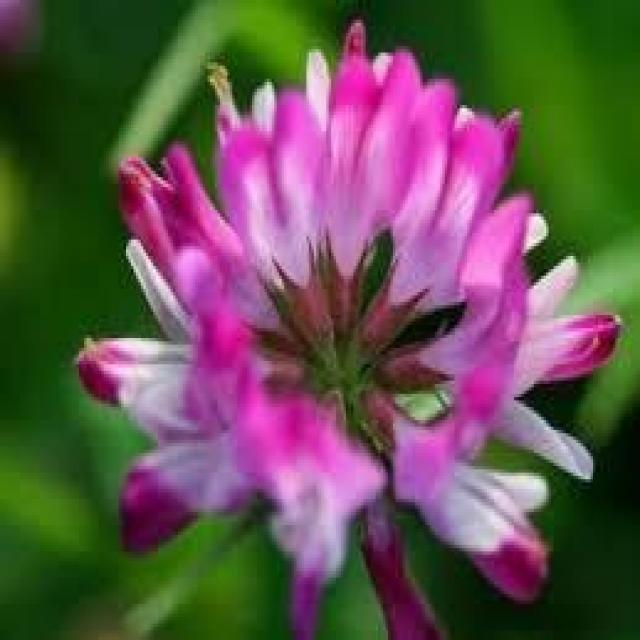organic waste: (78, 51, 602, 612)
